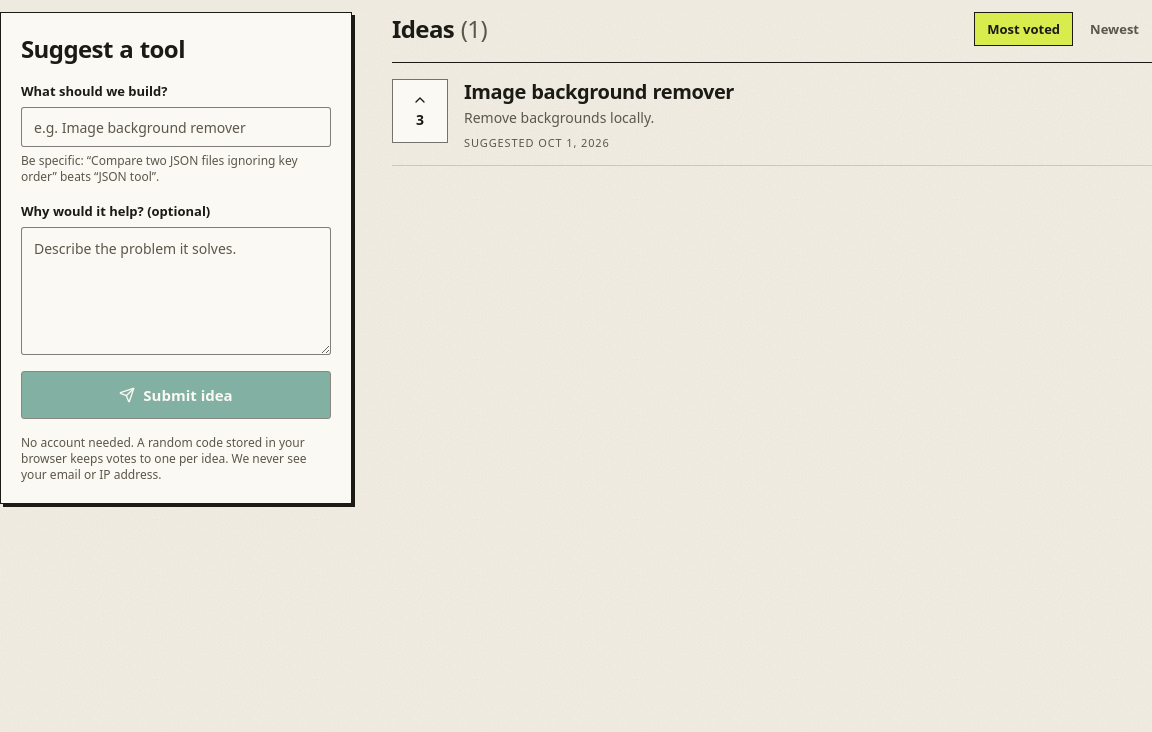
RequestBoard › rolls back a failed vote and reports the error
Click the button named "Vote for" at (420, 111), box [392,79,448,143]
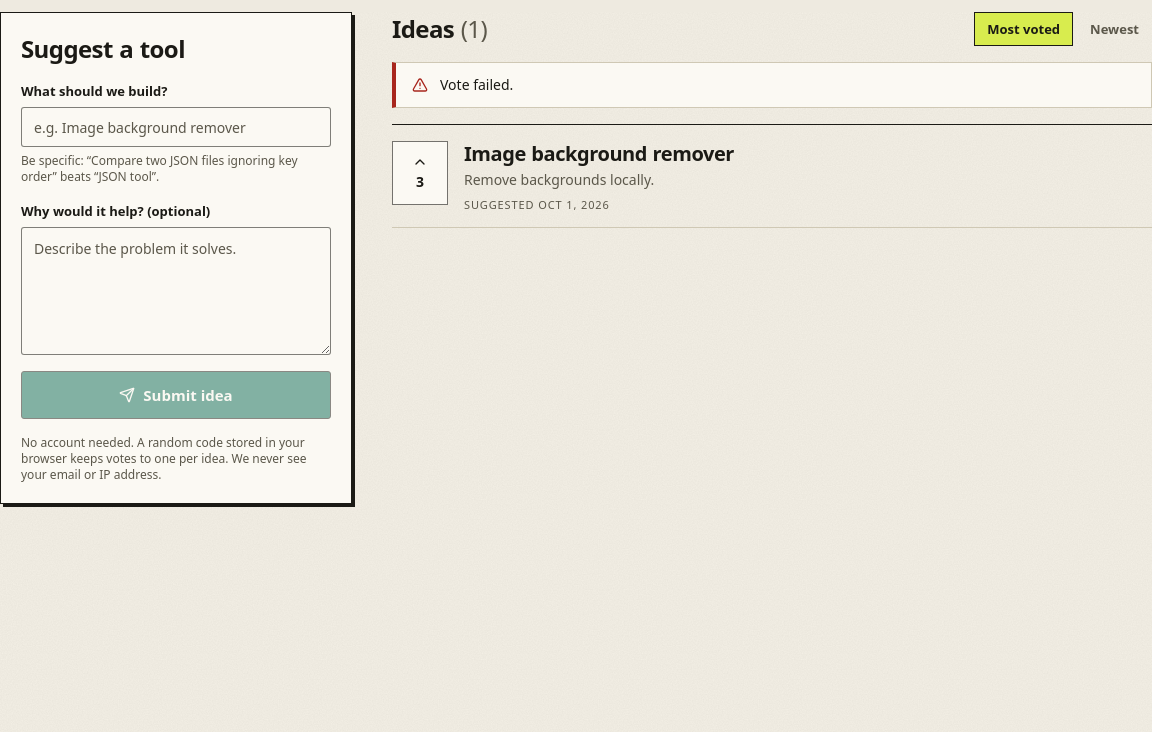
Expected: the text "Vote failed." is shown, [440,75,513,95]
